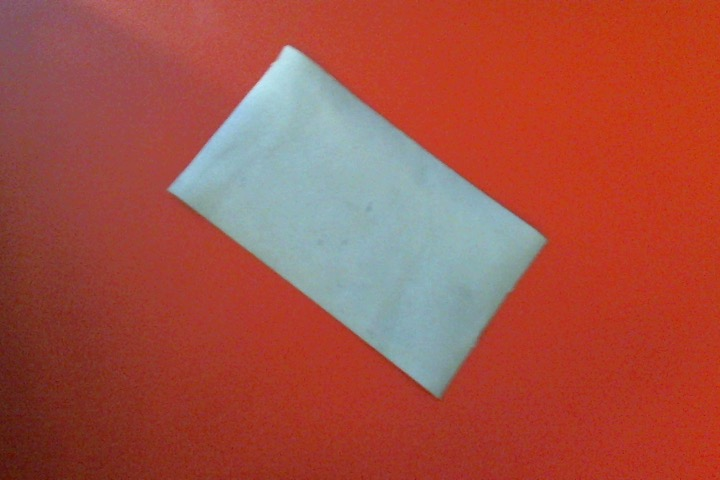Tape: (166, 44, 550, 400)
